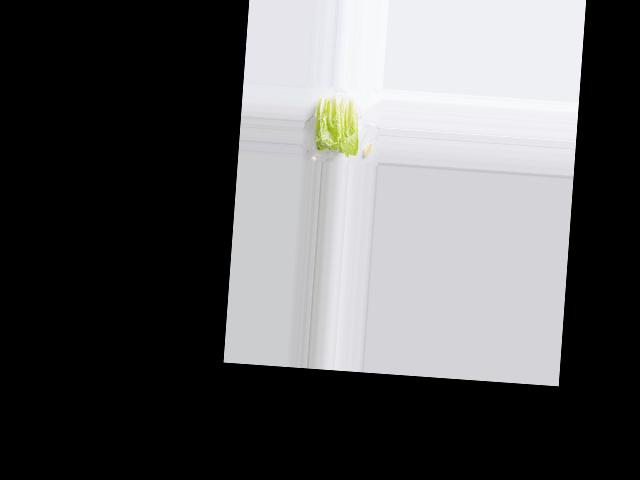lettuce: (310, 93, 364, 158)
